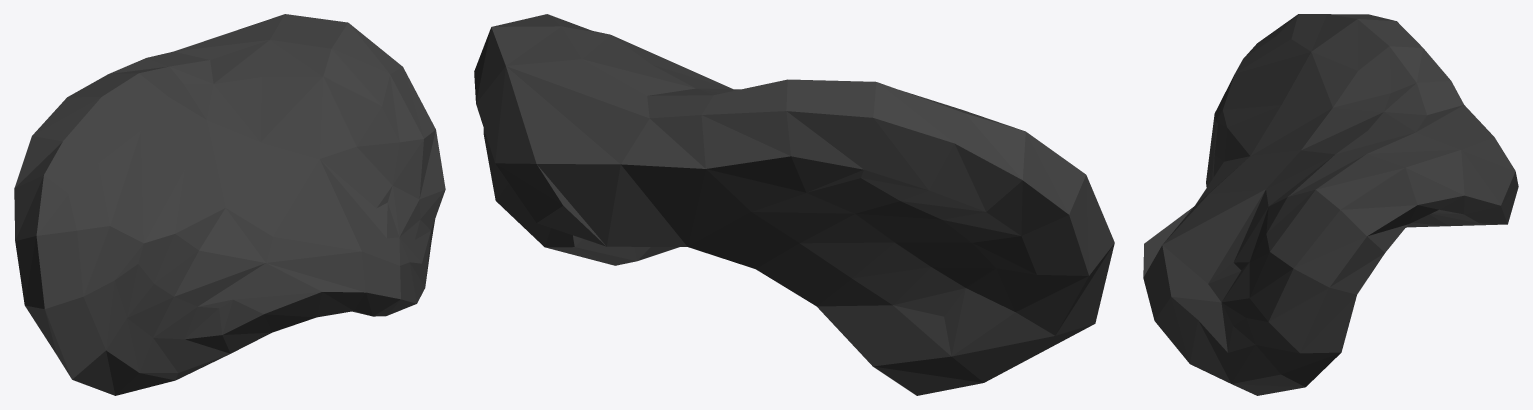
Rendered from RHL_tibia3.glb.
3 renders of one model, left to right at view 1: azimuth 30°, elevation 25°; view 2: azimuth 150°, elevation 25°; view 3: azimuth 270°, elevation 25°, orthographic. The views are drawn at different scales.
Parts seen in each view (by area): view 1: RHL_tibia3; view 2: RHL_tibia3; view 3: RHL_tibia3.
Boxes of the visible parts, x1=… form: RHL_tibia3: x1=14, y1=14, x2=445, y2=395; RHL_tibia3: x1=474, y1=14, x2=1114, y2=395; RHL_tibia3: x1=1143, y1=14, x2=1518, y2=395.
Size of the model in its own units: 15.51 by 8.79 by 11.01.
1 material, 1 textured.
